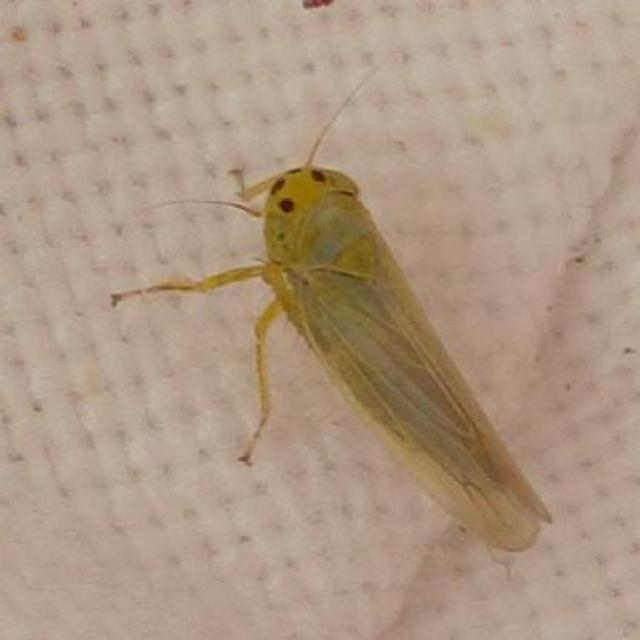green-leafhopper: (106, 55, 554, 549)
